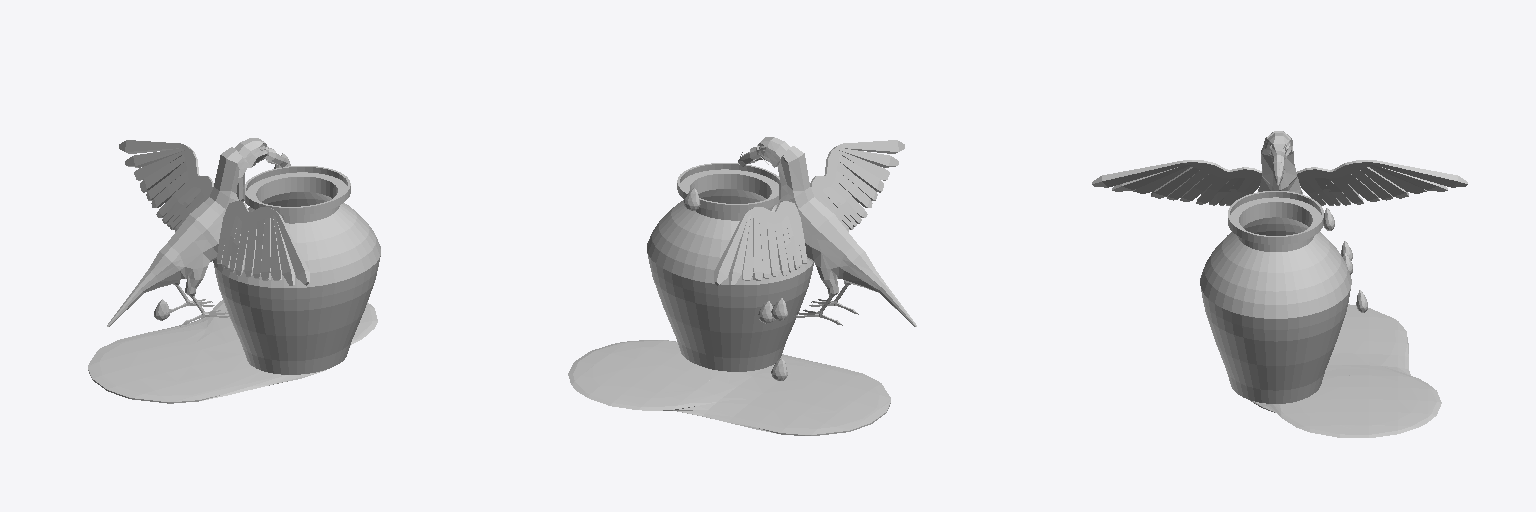
File: bheegahuakaua8.obj
The picture shows the model from 3 angles: view 1: azimuth 30°, elevation 25°; view 2: azimuth 150°, elevation 25°; view 3: azimuth 270°, elevation 25°; orthographic projection.
Visible parts, largest first — view 1: Circle, Cylinder, Mball; view 2: Circle, Mball, Cylinder; view 3: Circle, Mball, Cylinder.
Boxes of the visible parts, <box> form: Circle: <box>213,166,380,374</box>; Cylinder: <box>107,138,309,326</box>; Mball: <box>88,300,377,403</box>; Circle: <box>647,163,813,371</box>; Mball: <box>568,340,890,435</box>; Cylinder: <box>714,137,916,326</box>; Circle: <box>1200,191,1351,403</box>; Mball: <box>1250,304,1441,437</box>; Cylinder: <box>1092,131,1467,205</box>.
Bounding box in the file's own units: 1.18 × 0.8891 × 1.28.